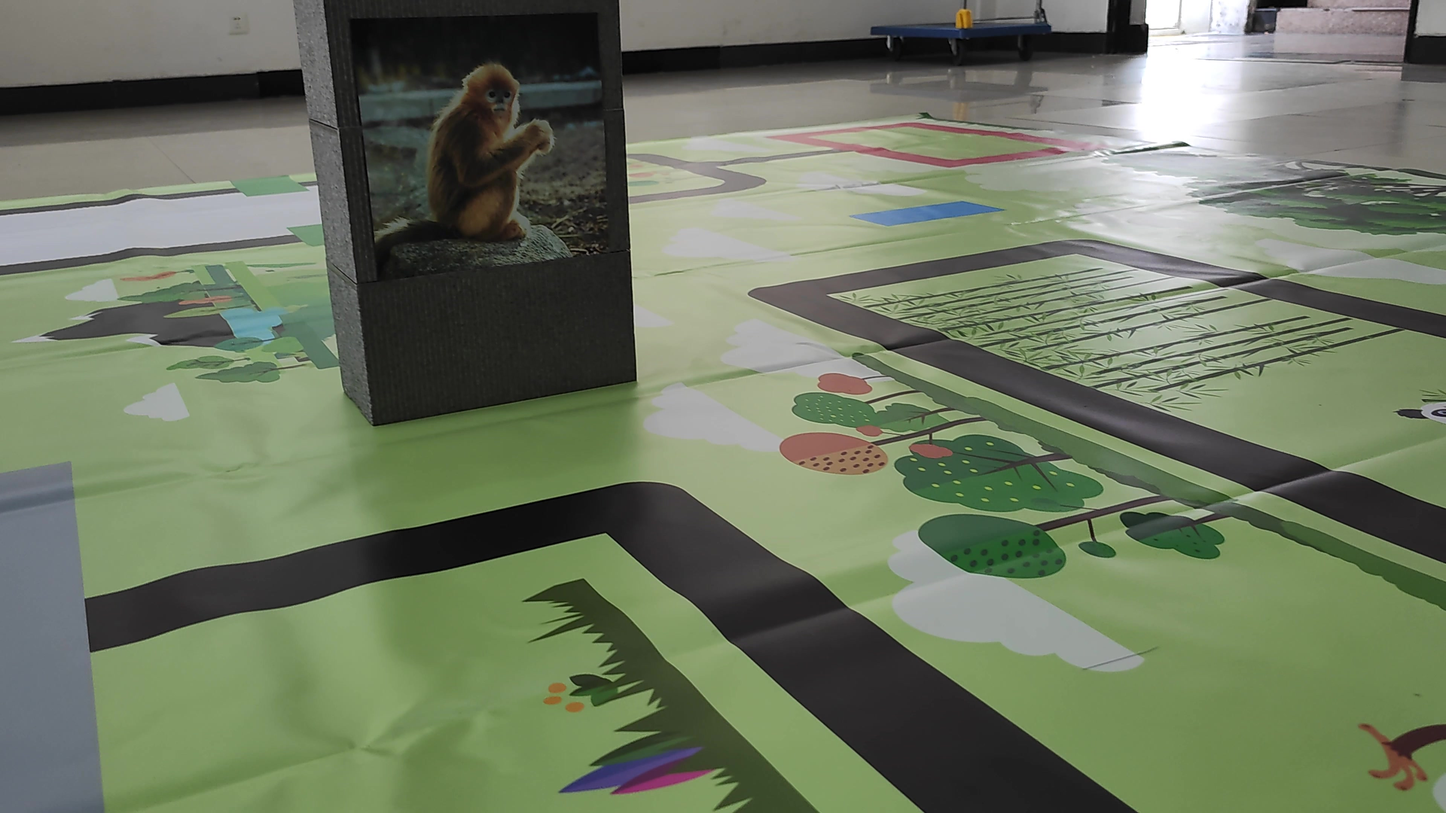monkey: (358, 50, 583, 277)
